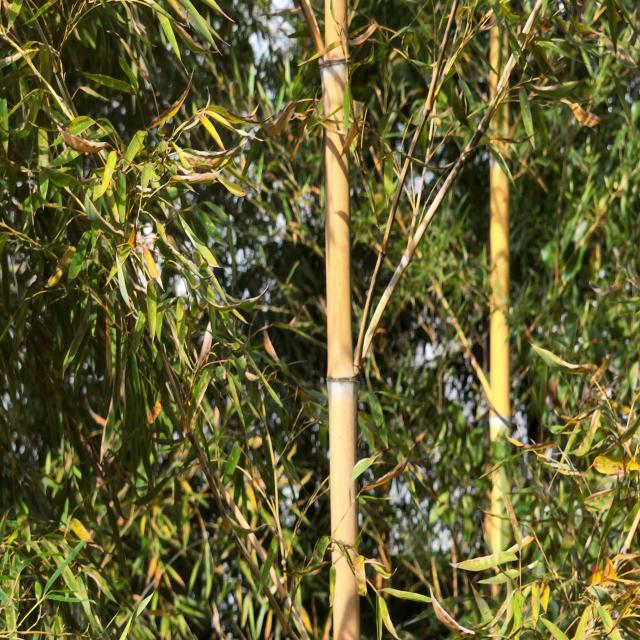Bamboo-shoots: (326, 0, 360, 640)
